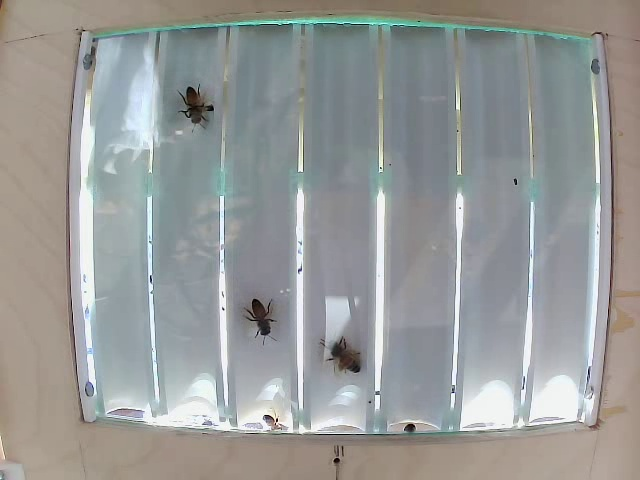bee: (184, 81, 223, 144), (318, 325, 364, 372), (237, 291, 286, 335)
